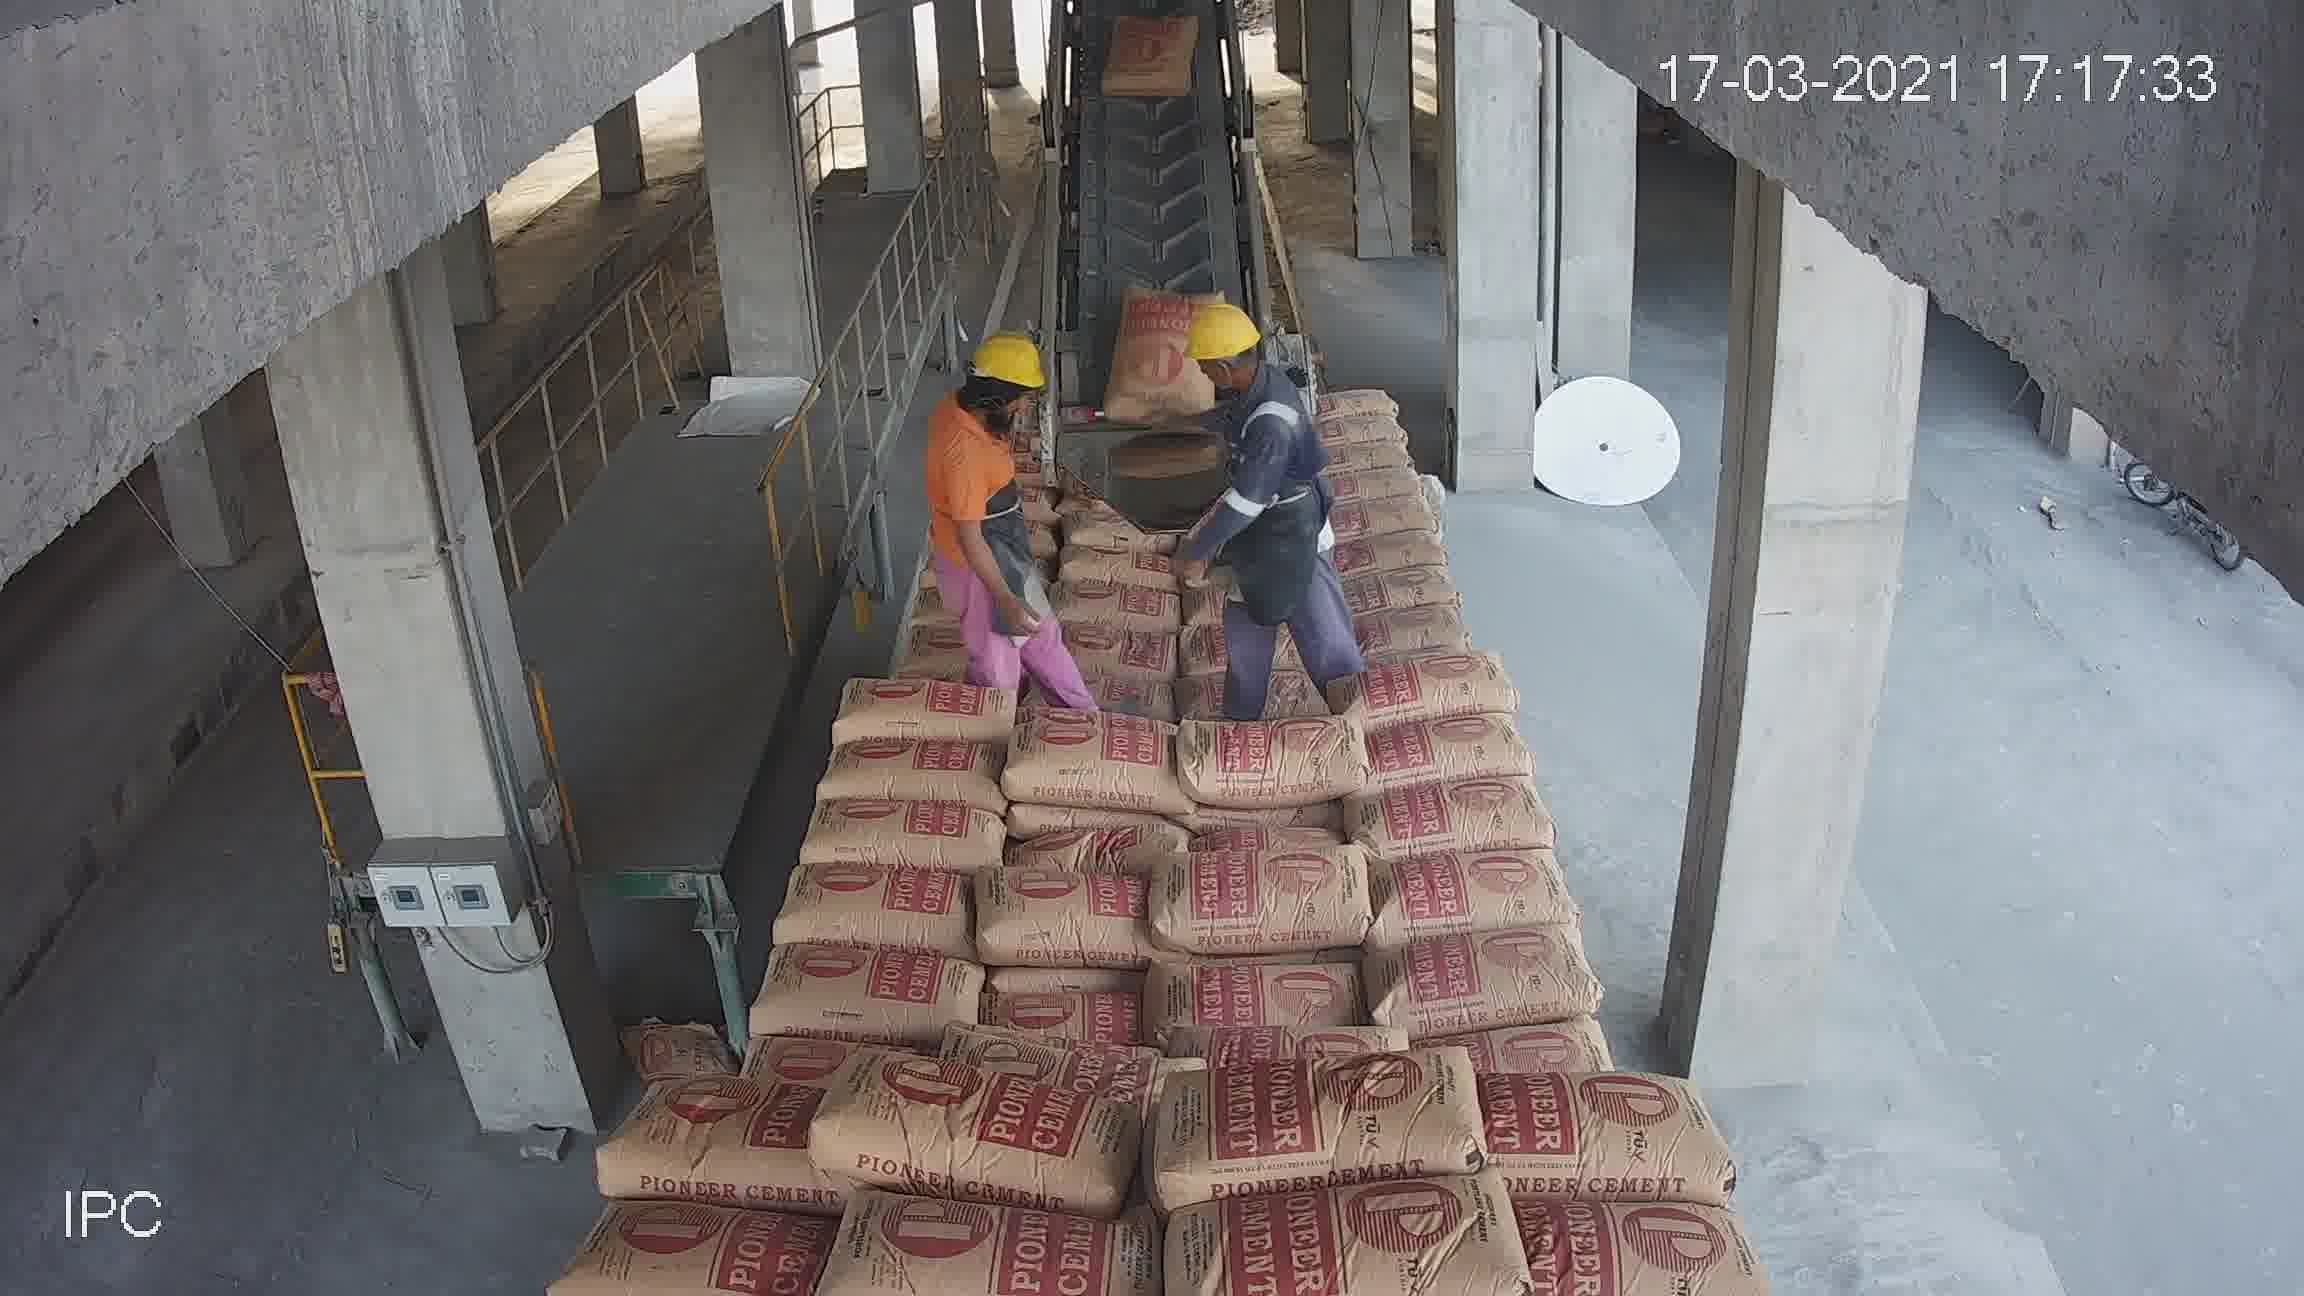bag: (1108, 290, 1226, 419), (1100, 13, 1204, 97)
bag_h: (801, 1059, 1139, 1207), (1188, 1051, 1499, 1204), (1173, 1171, 1513, 1293), (1470, 1054, 1719, 1214), (834, 1180, 1152, 1282), (1362, 921, 1598, 1040), (745, 934, 994, 1044), (1502, 1184, 1749, 1294), (570, 1196, 839, 1296), (595, 1079, 801, 1204), (1157, 847, 1378, 948), (976, 858, 1152, 981), (1356, 843, 1578, 937), (766, 864, 983, 956), (1176, 717, 1370, 817), (1152, 964, 1364, 1049), (1340, 772, 1549, 858), (801, 802, 1002, 878), (1010, 725, 1180, 813), (817, 733, 1014, 809), (1348, 650, 1519, 734), (1367, 703, 1535, 786), (1410, 1024, 1617, 1090), (839, 677, 1021, 744), (989, 981, 1146, 1051), (1038, 669, 1184, 734), (1048, 581, 1188, 638), (1329, 551, 1457, 611), (1048, 619, 1192, 669), (1348, 597, 1465, 657), (1062, 538, 1184, 592), (1334, 527, 1446, 581), (1324, 495, 1443, 544), (1328, 459, 1429, 503), (1307, 383, 1400, 426), (1312, 411, 1412, 449), (1328, 445, 1412, 479)
bag_v: (1048, 465, 1190, 606)
belt: (1035, 25, 1252, 472)
